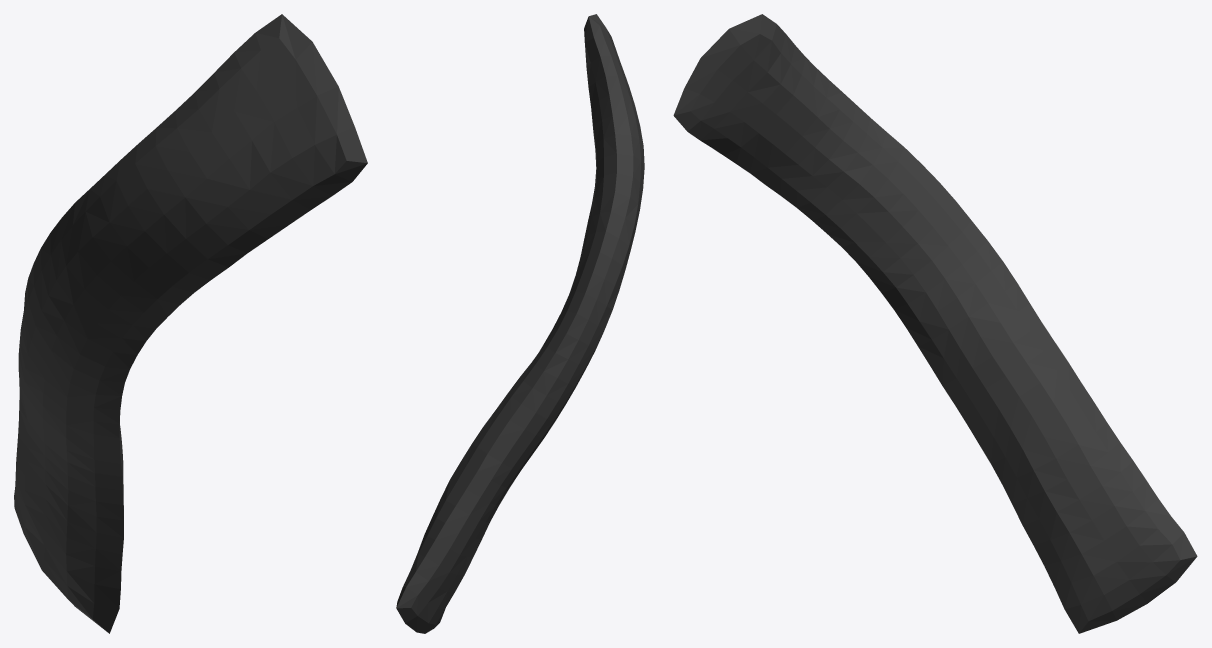
File: scutulo_supf.glb
The picture shows the model from 3 angles, left to right: view 1: azimuth 30°, elevation 25°; view 2: azimuth 150°, elevation 25°; view 3: azimuth 270°, elevation 25°; orthographic projection. The views are drawn at different scales.
Parts seen in each view (by area): view 1: scutulo_supf; view 2: scutulo_supf; view 3: scutulo_supf.
Boxes of the visible parts, box(x1,y1,x2,y2) form: scutulo_supf: box(14, 14, 367, 633); scutulo_supf: box(396, 14, 644, 633); scutulo_supf: box(673, 14, 1197, 633).
Size of the model in its own units: 0.0655 by 0.2825 by 0.2204.
1 material, 1 textured.
